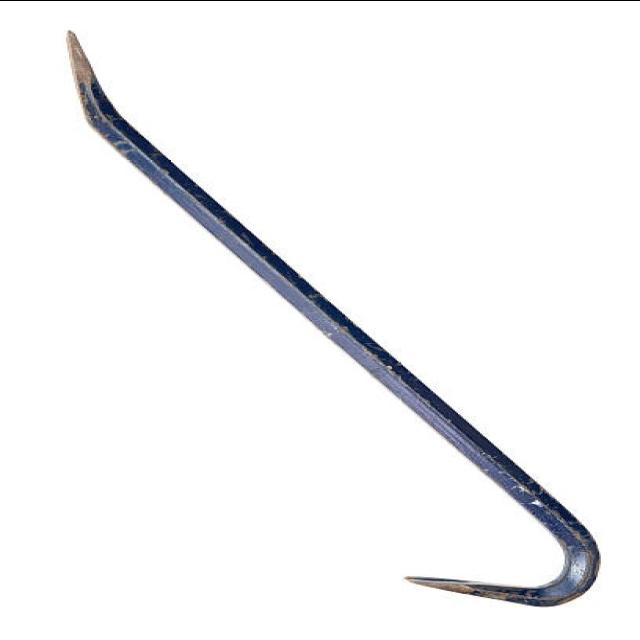Linggis: (67, 30, 603, 609)
